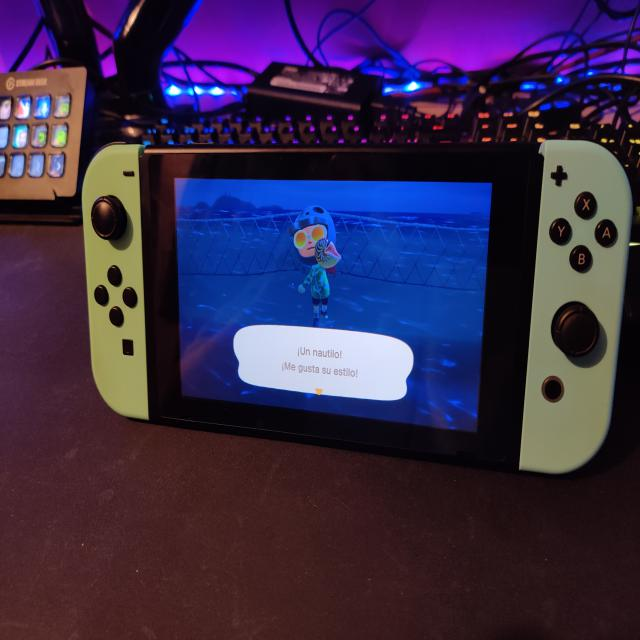text_bubble: (232, 323, 418, 404)
